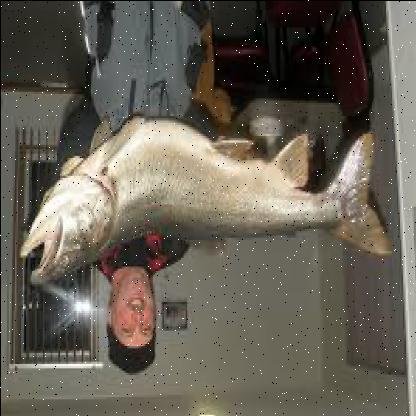fish: (20, 120, 392, 288)
